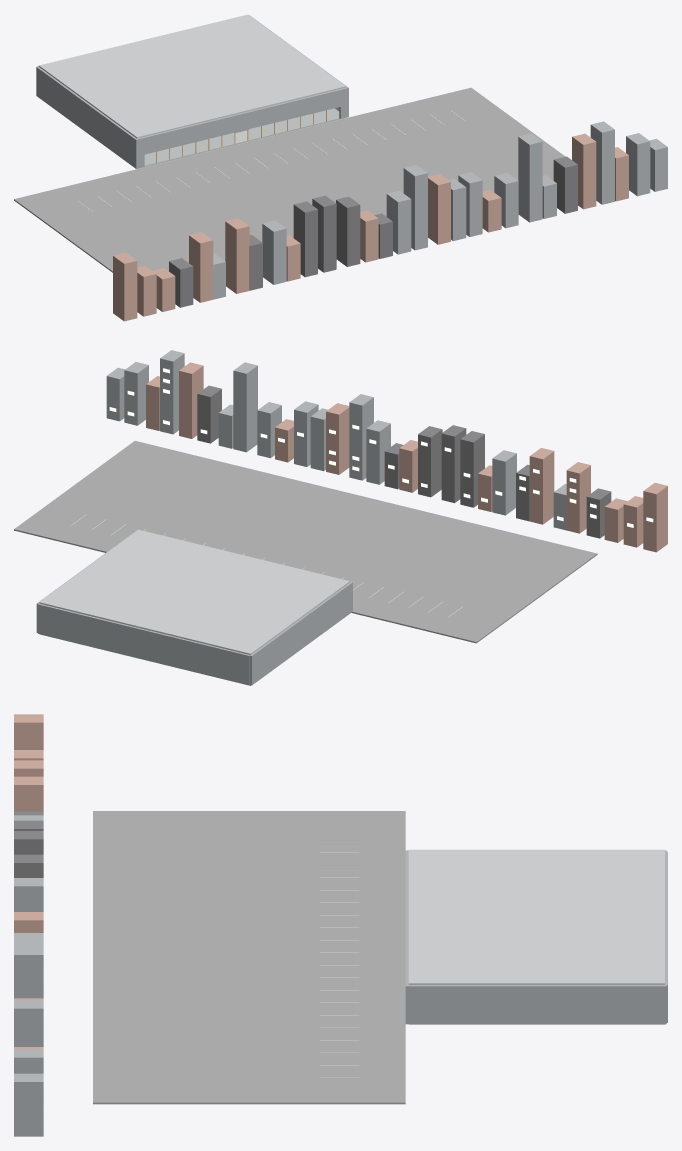
Rendered from store.glb.
3 views of the same model, one above another, from view 1: azimuth 30°, elevation 25°; view 2: azimuth 150°, elevation 25°; view 3: azimuth 270°, elevation 25° (orthographic). The views are drawn at different scales.
Parts seen in each view (by area): view 1: store_lot, store_ceiling, store_walls, store_floor; view 2: store_lot, store_ceiling, store_walls; view 3: store_lot, store_ceiling, store_walls.
Part boxes in pixels (x1,y1,x2,y2): store_lot: (14, 87, 667, 321); store_ceiling: (39, 14, 345, 138); store_walls: (36, 15, 348, 168); store_floor: (137, 108, 345, 168); store_lot: (14, 350, 667, 643); store_ceiling: (39, 529, 349, 654); store_walls: (36, 529, 352, 685); store_lot: (14, 714, 405, 1136); store_ceiling: (408, 849, 664, 984); store_walls: (405, 850, 667, 1024).
Size of the model in its own units: 166 by 22.73 by 133.
